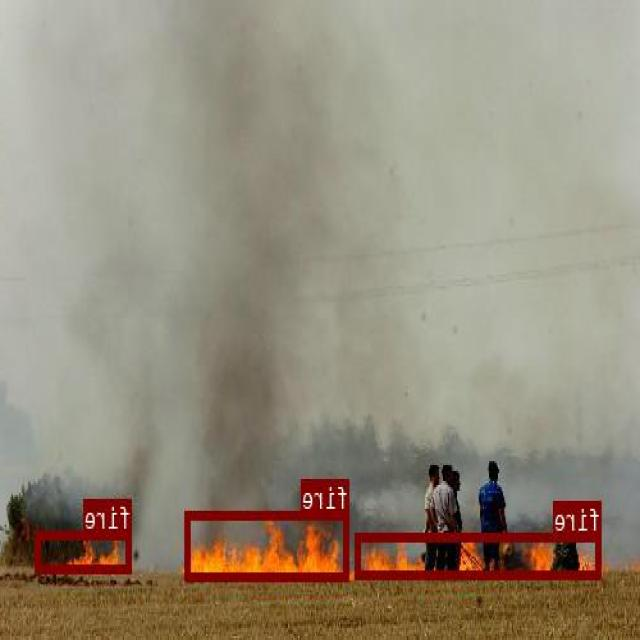fire: (187, 509, 350, 579), (356, 532, 603, 577), (37, 529, 132, 571)
